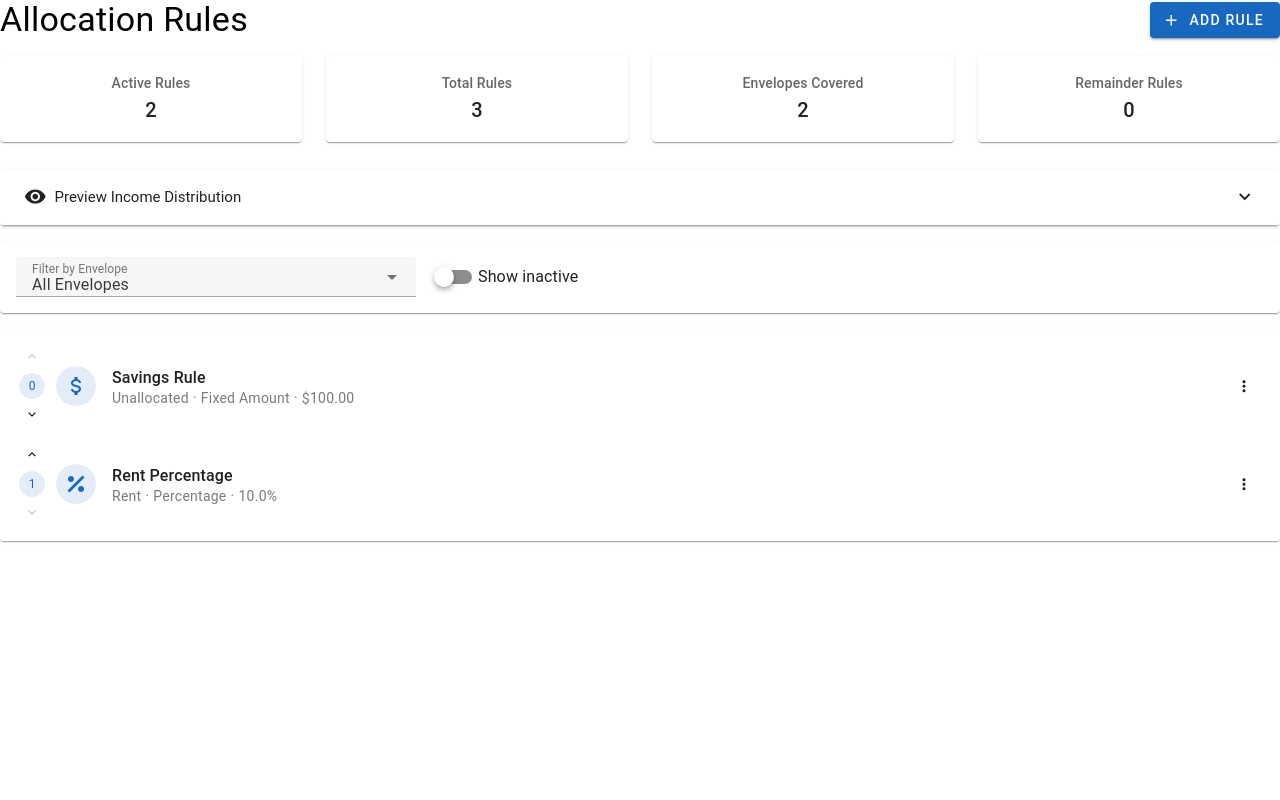
Scenario: AllocationRulesView › add rule button opens form dialog
Click the button "Add Rule" at [1215, 20], box [1150,2,1279,38]
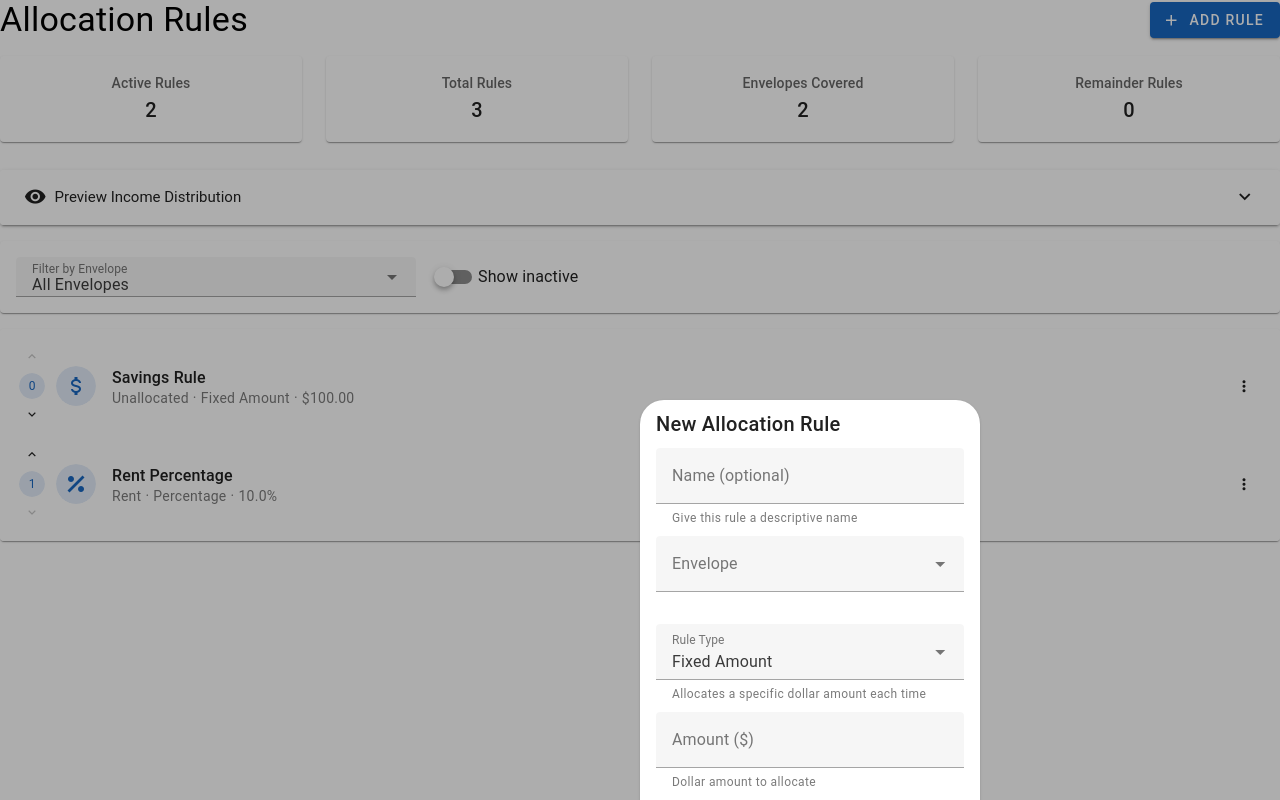
Check: the text "New Allocation Rule" is shown, box [656,412,840,436]
